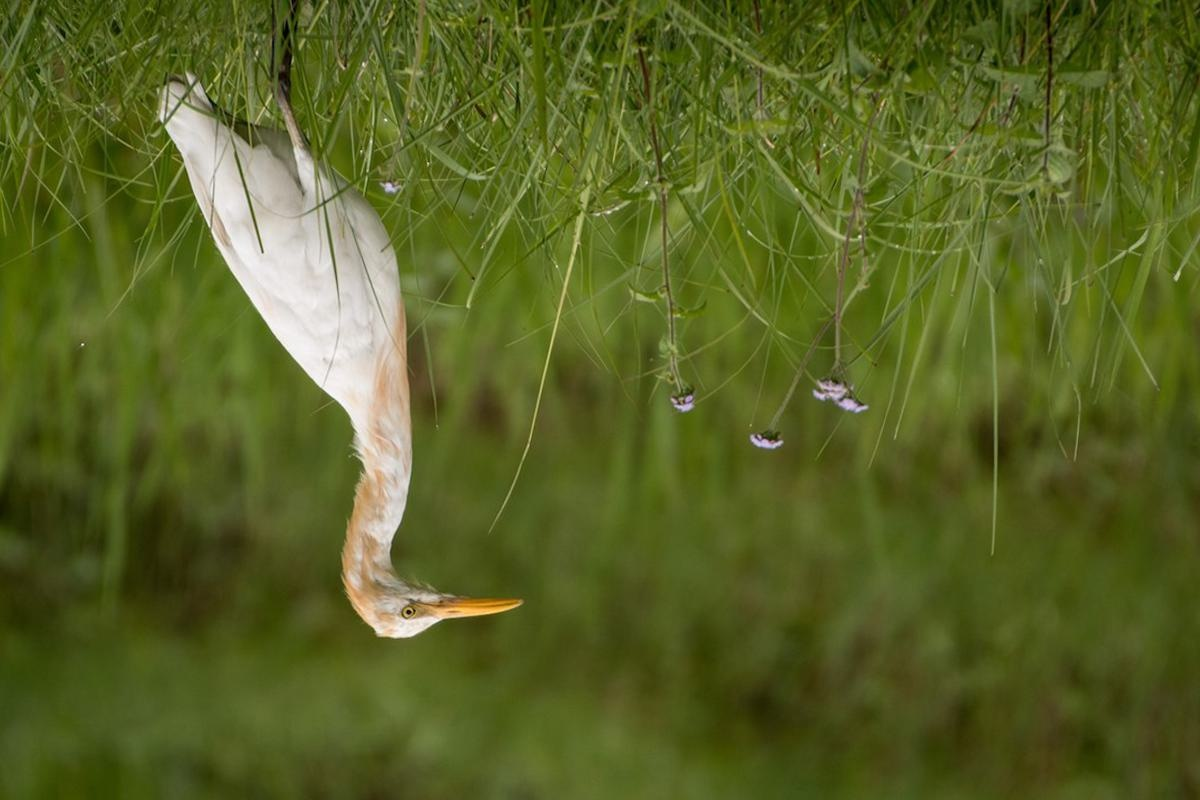egret: (159, 105, 531, 642)
